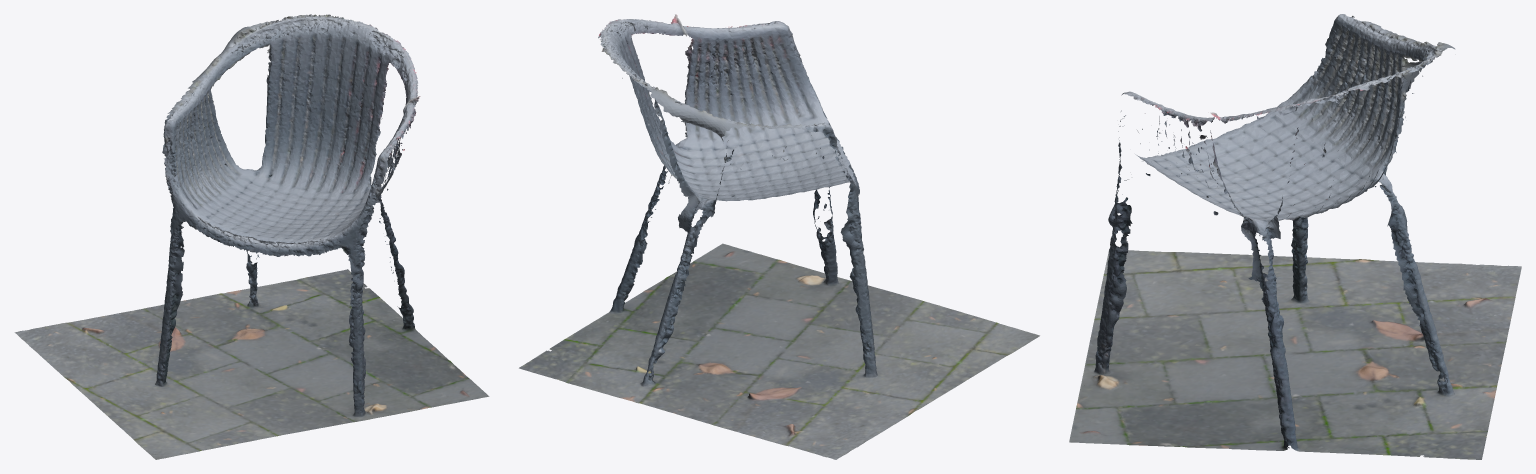
Rendered from chair.glb.
The picture shows the model from 3 angles, left to right: view 1: azimuth 30°, elevation 25°; view 2: azimuth 150°, elevation 25°; view 3: azimuth 270°, elevation 25°; orthographic projection. The views are drawn at different scales.
Size of the model in its own units: 6.36 by 5.16 by 5.9.
